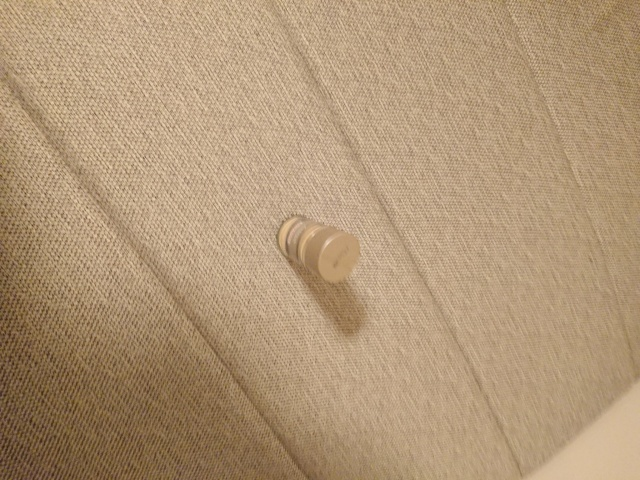Kotanyi Garlic Granules 70g: (274, 210, 362, 287)
